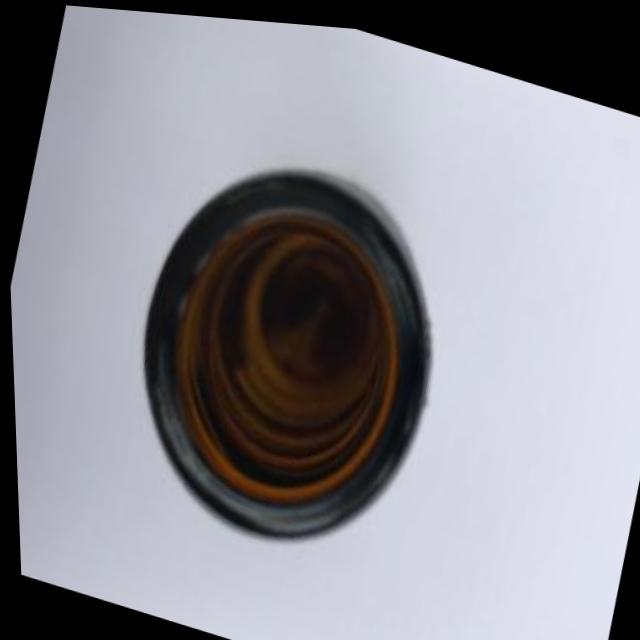glass: (86, 105, 490, 596)
